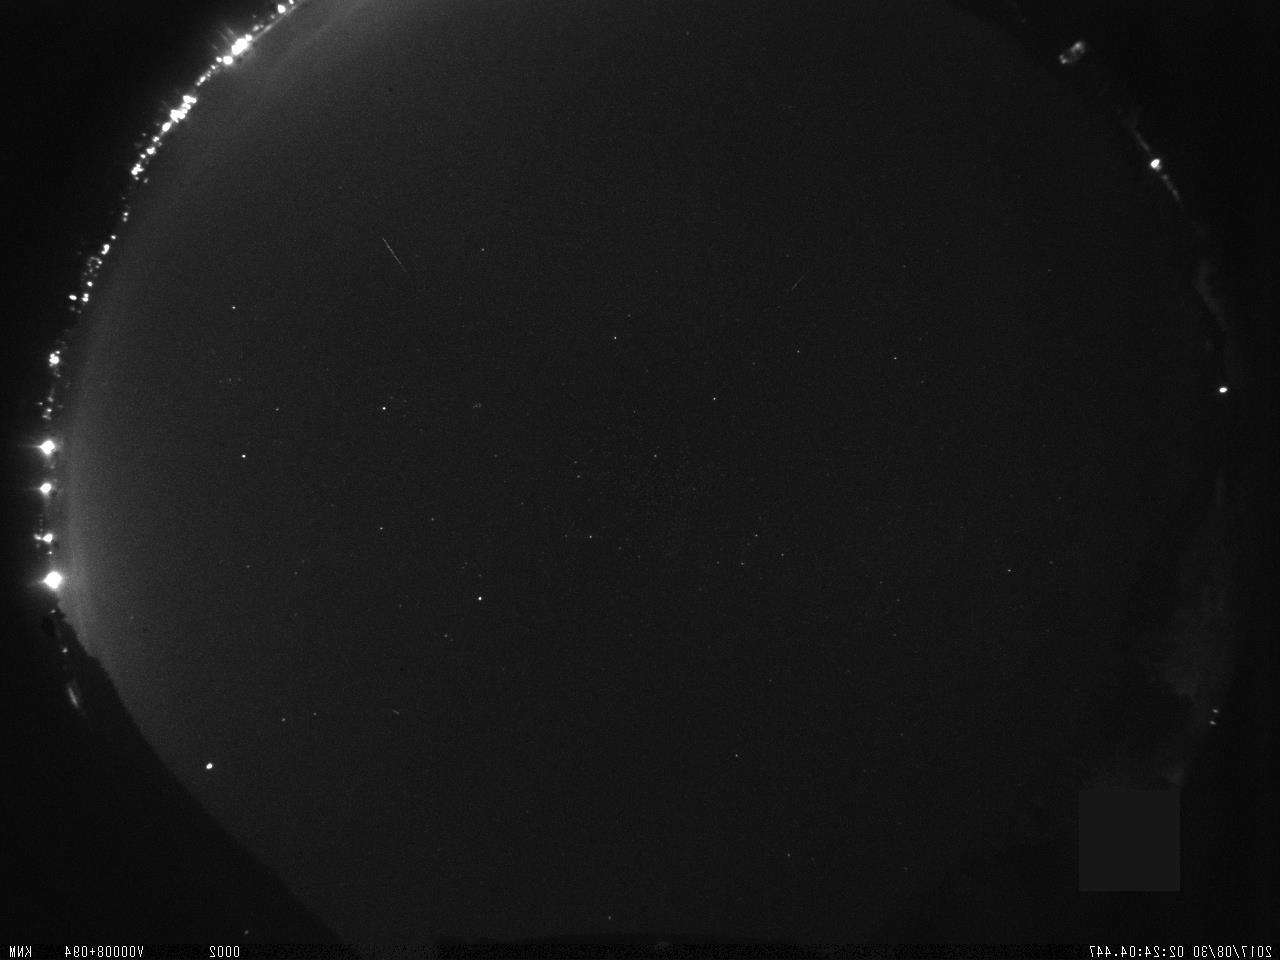meteor: (371, 221, 425, 302)
